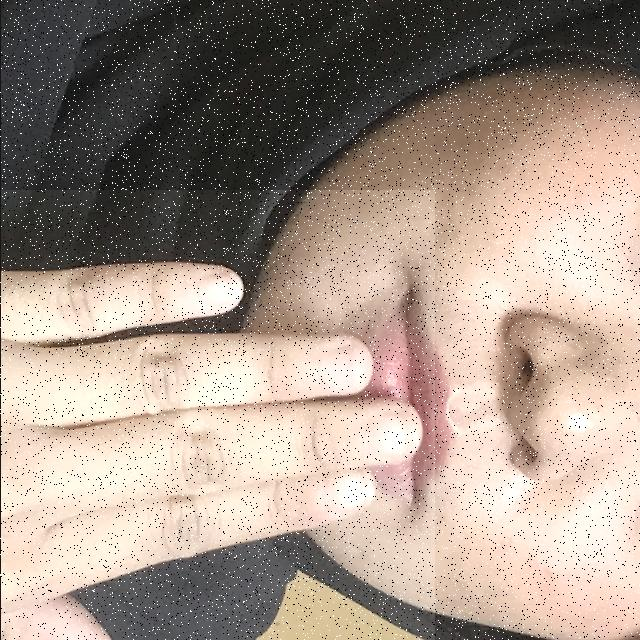ganteng: (0, 190, 434, 640)
